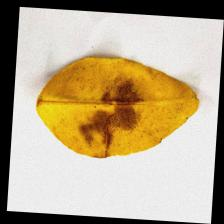black spot: (75, 88, 169, 154)
